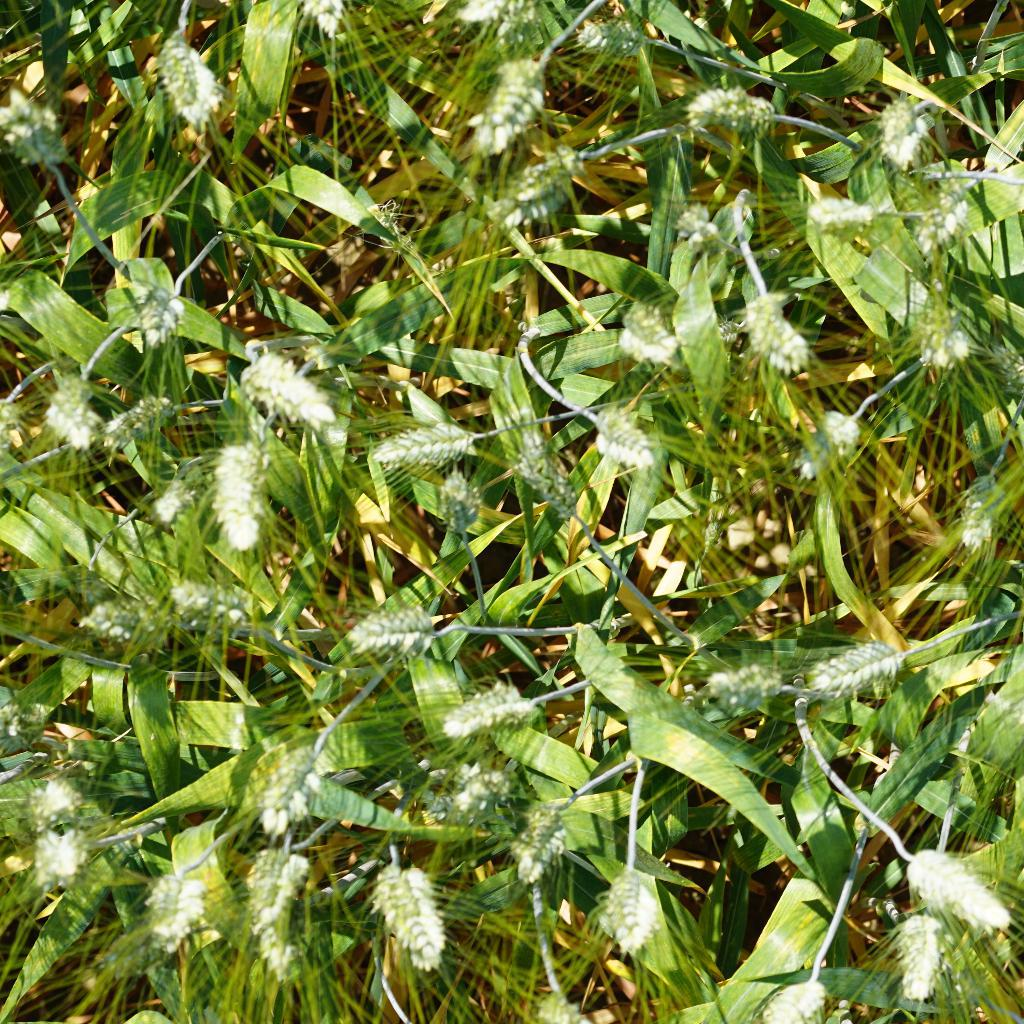0-0: (512, 434, 620, 552), (892, 841, 1016, 937), (231, 845, 321, 974), (367, 847, 448, 989), (215, 426, 288, 559), (238, 359, 348, 447), (713, 287, 822, 373), (493, 793, 586, 892), (796, 636, 918, 710), (156, 22, 235, 133), (474, 41, 550, 154), (159, 578, 273, 653), (342, 600, 468, 666), (438, 675, 561, 742), (679, 74, 803, 138), (247, 728, 324, 829), (346, 415, 481, 470), (407, 758, 509, 829), (129, 866, 209, 956), (789, 393, 867, 485), (605, 294, 687, 380), (608, 855, 673, 963), (890, 889, 950, 1005), (499, 144, 590, 219), (0, 92, 75, 183), (417, 464, 493, 549), (590, 399, 671, 477), (705, 658, 796, 721), (123, 275, 197, 350), (752, 961, 840, 1024), (93, 385, 180, 447), (565, 6, 656, 63), (959, 460, 1011, 559), (806, 183, 889, 245), (18, 825, 103, 884), (48, 369, 109, 449), (908, 296, 975, 366), (82, 593, 172, 645), (911, 191, 983, 254), (867, 92, 929, 165), (11, 770, 86, 829), (668, 209, 740, 268), (138, 455, 194, 526), (527, 985, 604, 1024), (298, 0, 363, 43), (452, 0, 553, 27), (985, 337, 1024, 405), (367, 198, 411, 258), (704, 310, 752, 356)
